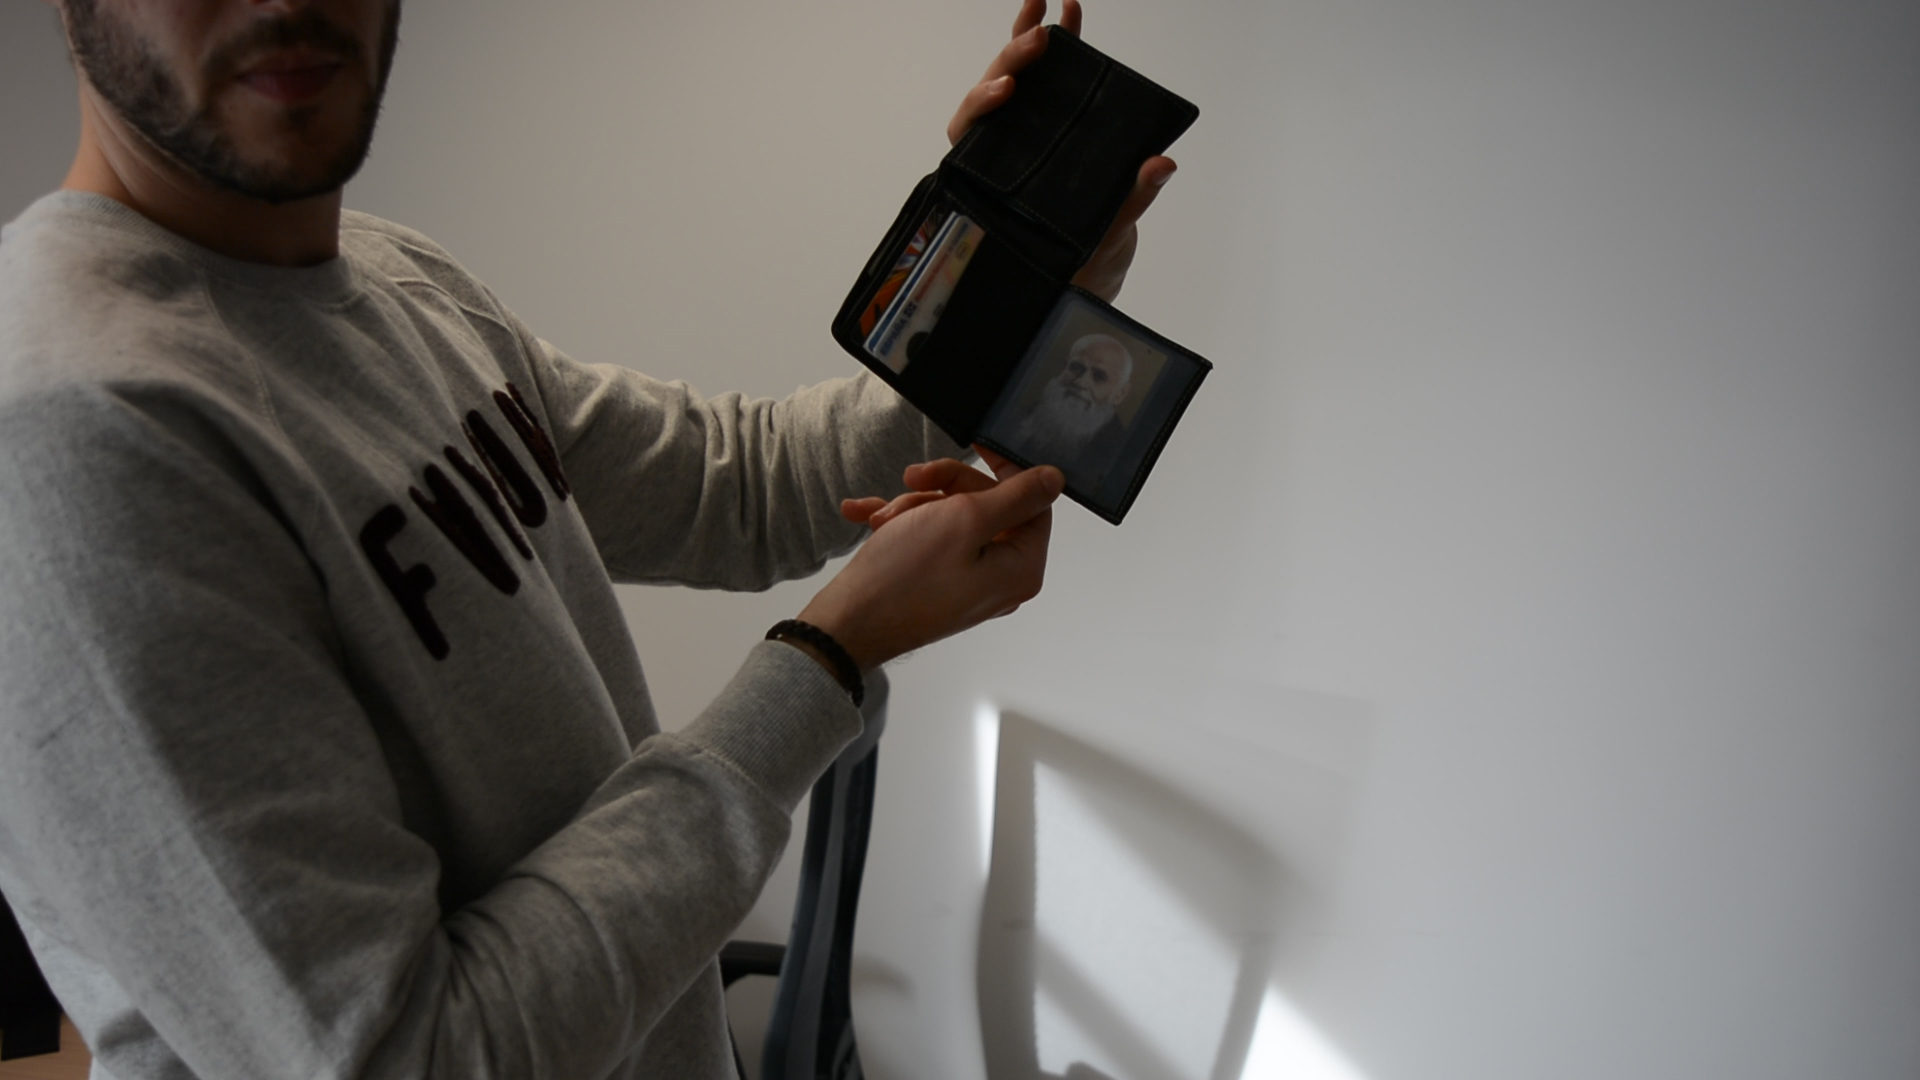monedero: (829, 22, 1218, 527)
